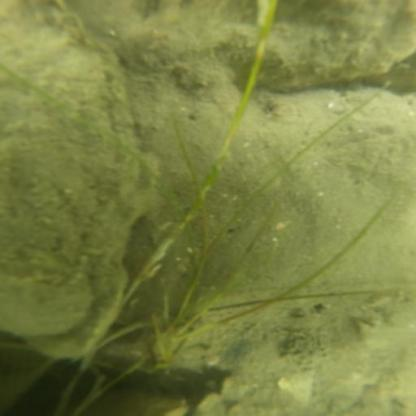3: (0, 6, 146, 361)
Oyster-Open: (187, 286, 416, 416), (69, 2, 273, 88), (252, 1, 415, 85)
